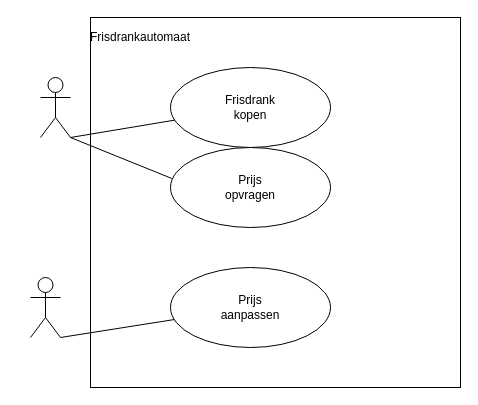
This 478x405 diagram has some shape labels left out. Here are the shapes that lost their labels. From the top down, the centre of each, then its label:
At [55,107]: "Klant".
At [45,307]: "Beheerder".
